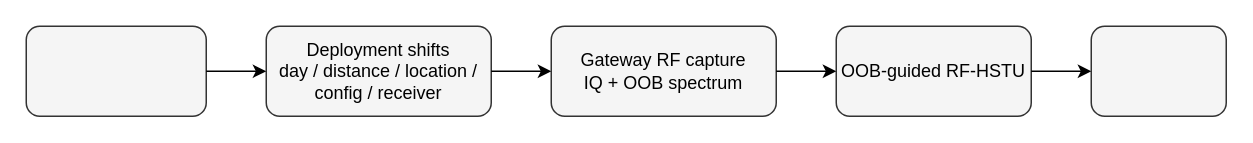
The diagram is 1253 pixels wide and 143 high, and some of its shapes have lost their labels. The shapes that lost their labels are listed below. From the top down, each one's centre as x and y in pixels, then its label:
[115,70]: LoRa TXs (enrolled / rogue)
[1158,70]: ID / alert
